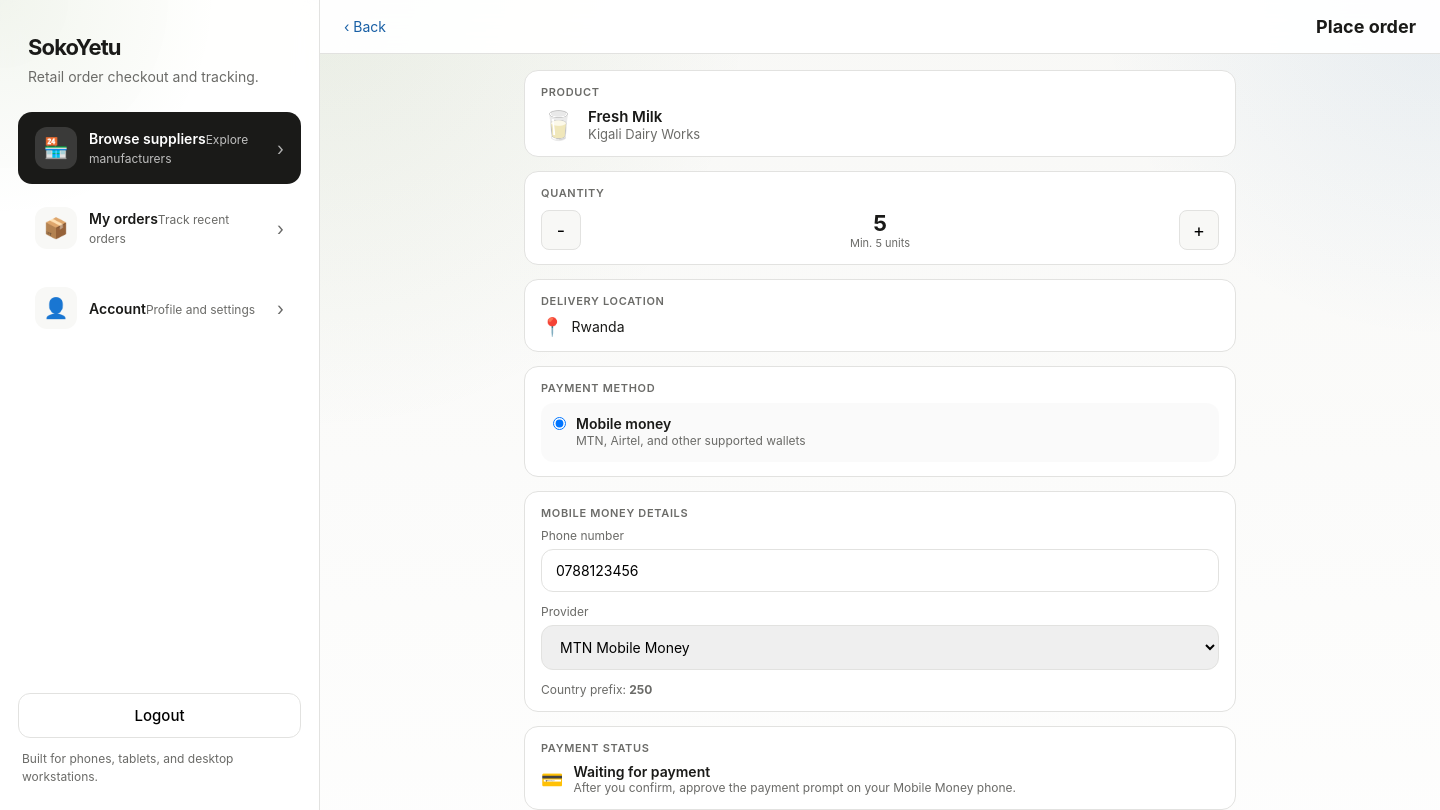
quantity › steps up by the minimum order quantity
Click the button "+".
click(1199, 230)  # box [1179,210,1219,250]
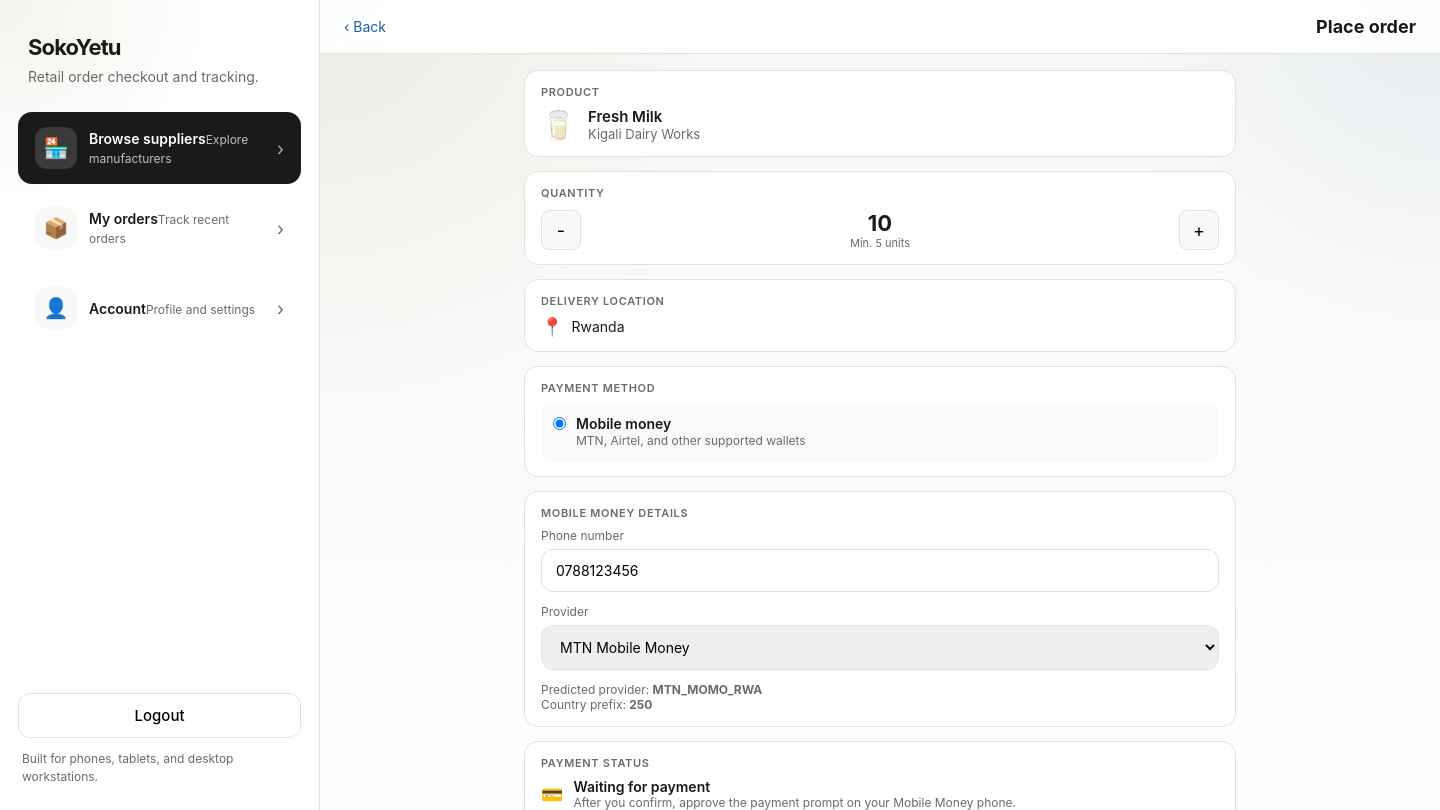
Check: the text "10" is shown, box [868,210,892,236]
